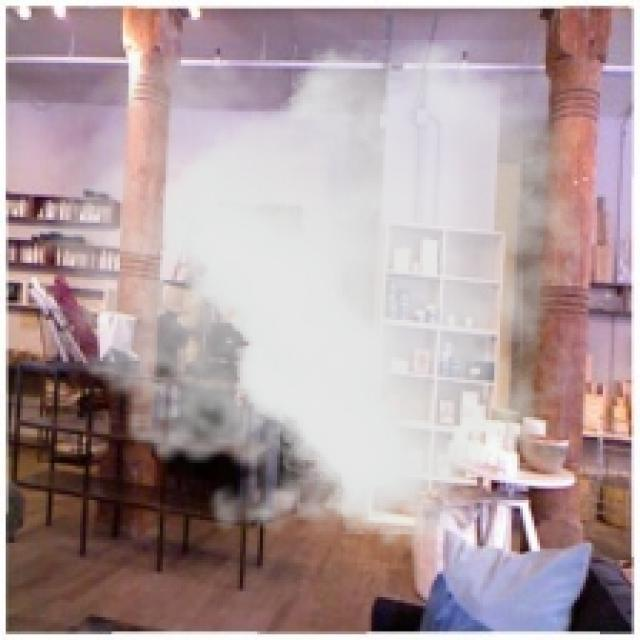Smoke: (14, 40, 580, 566)
